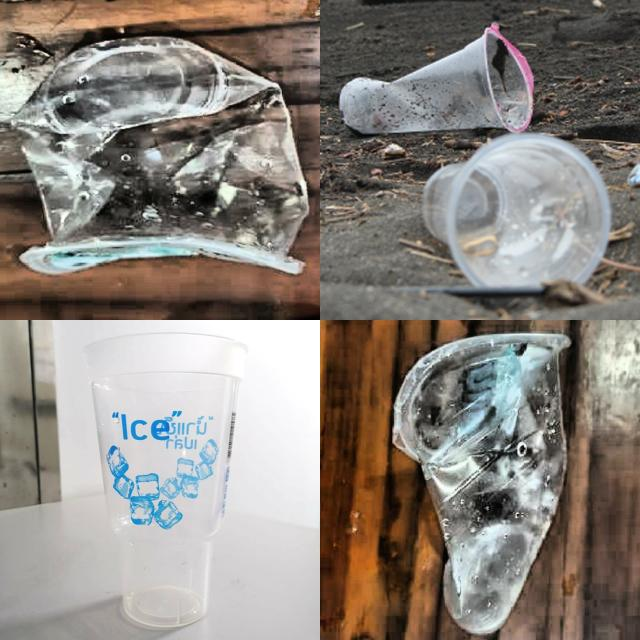Single-Use-Plastic: (12, 36, 309, 274), (392, 334, 570, 634), (85, 332, 246, 628), (422, 134, 611, 290), (339, 25, 534, 134)
